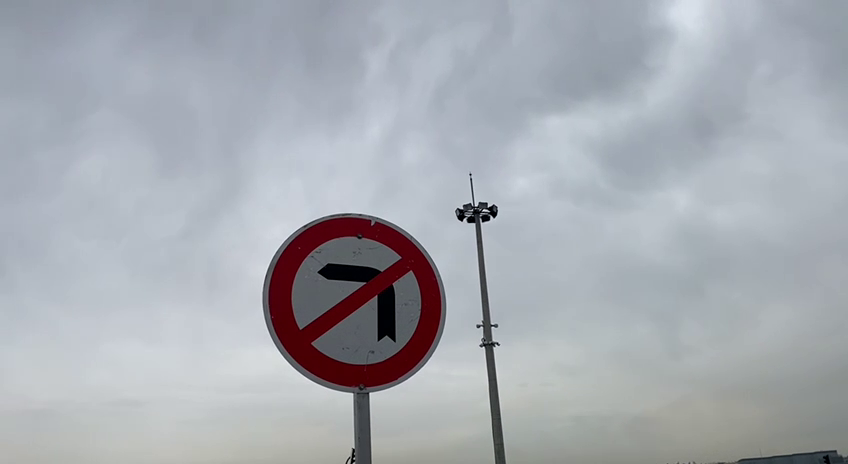noTurnLeft: (256, 207, 451, 398)
